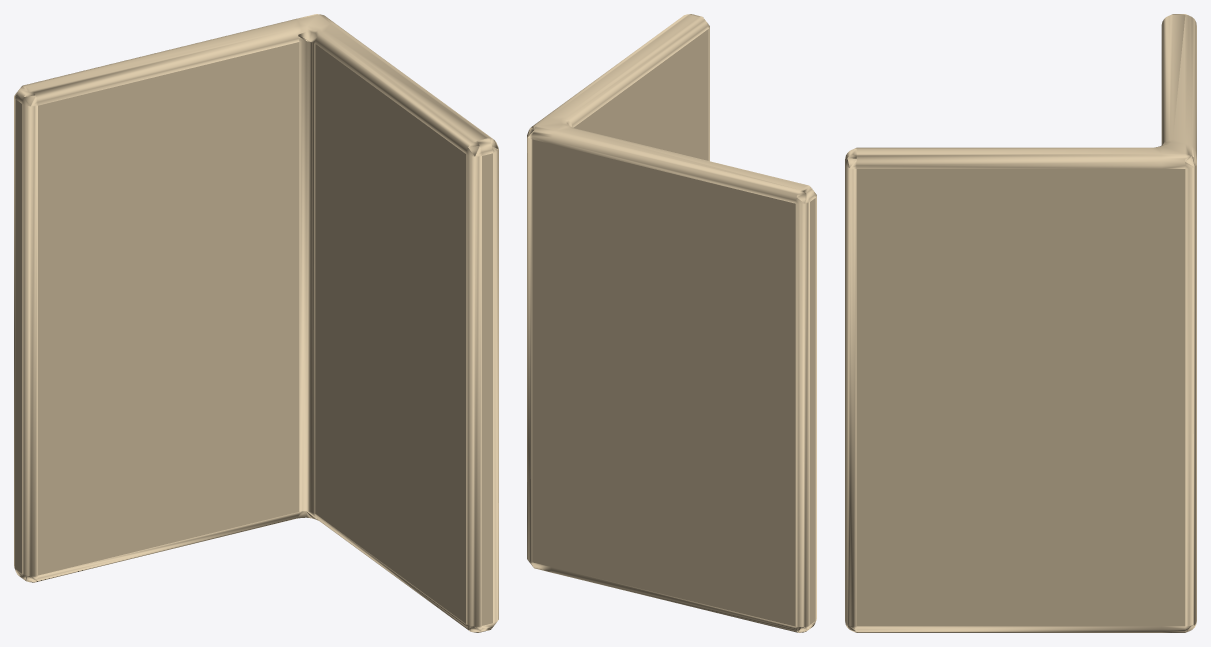
Rendered from InnerCorner.glb.
3 views of the same model, side by side, from view 1: azimuth 30°, elevation 25°; view 2: azimuth 150°, elevation 25°; view 3: azimuth 270°, elevation 25° (orthographic). The views are drawn at different scales.
Visible parts, largest first — view 1: PBK_corner_a.006; view 2: PBK_corner_a.006; view 3: PBK_corner_a.006.
Part boxes in pixels (x1=…): PBK_corner_a.006: x1=14, y1=14, x2=498, y2=632; PBK_corner_a.006: x1=527, y1=14, x2=816, y2=632; PBK_corner_a.006: x1=845, y1=14, x2=1196, y2=632.
Size of the model in its own units: 2 by 3 by 2.
